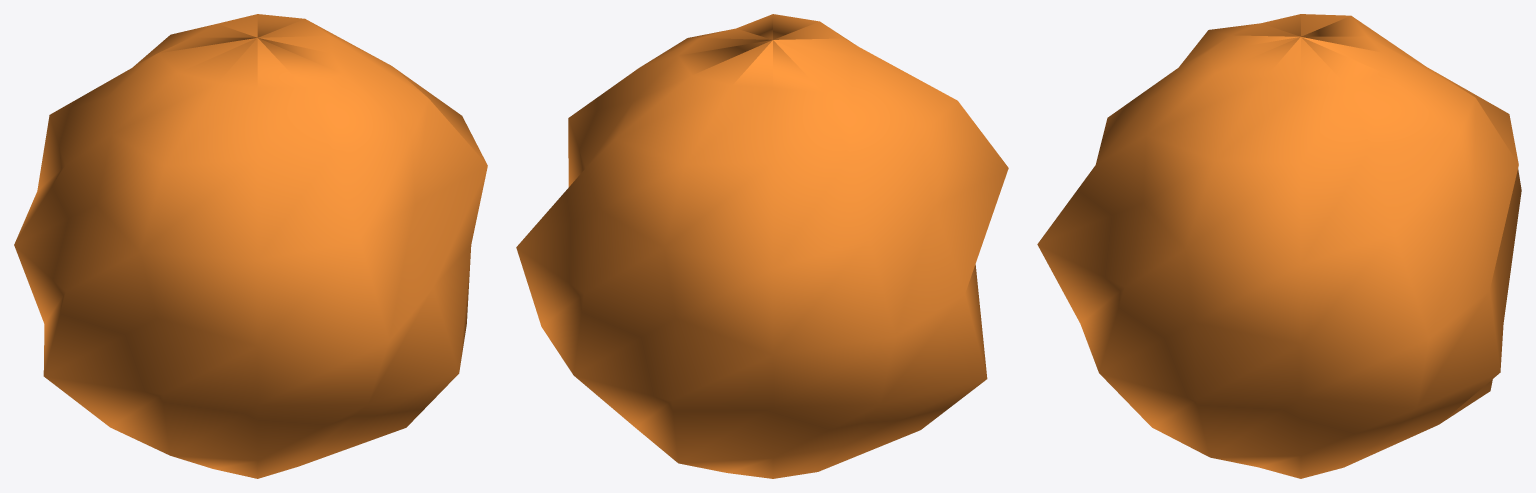
The model's file is Explosion_FireCloud.fbx.
3 renders of one model, left to right at view 1: azimuth 30°, elevation 25°; view 2: azimuth 150°, elevation 25°; view 3: azimuth 270°, elevation 25°, orthographic.
Parts seen in each view (by area): view 1: PART_FireCloud; view 2: PART_FireCloud; view 3: PART_FireCloud.
Part boxes in pixels (bbox=[...]): PART_FireCloud: bbox=[14, 14, 487, 478]; PART_FireCloud: bbox=[516, 14, 1008, 478]; PART_FireCloud: bbox=[1037, 14, 1521, 478].
Bounding box in the file's own units: 211 × 200 × 212.
